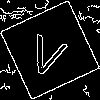V: (25, 25, 72, 80)
